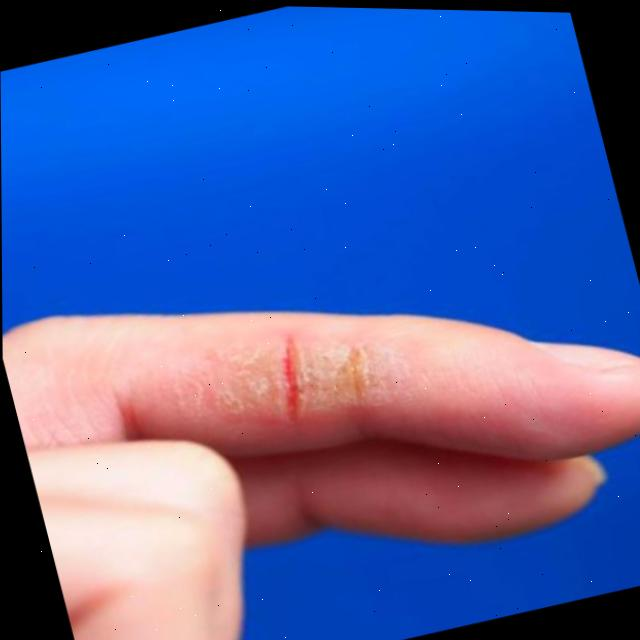Eczema: (187, 299, 395, 433)
